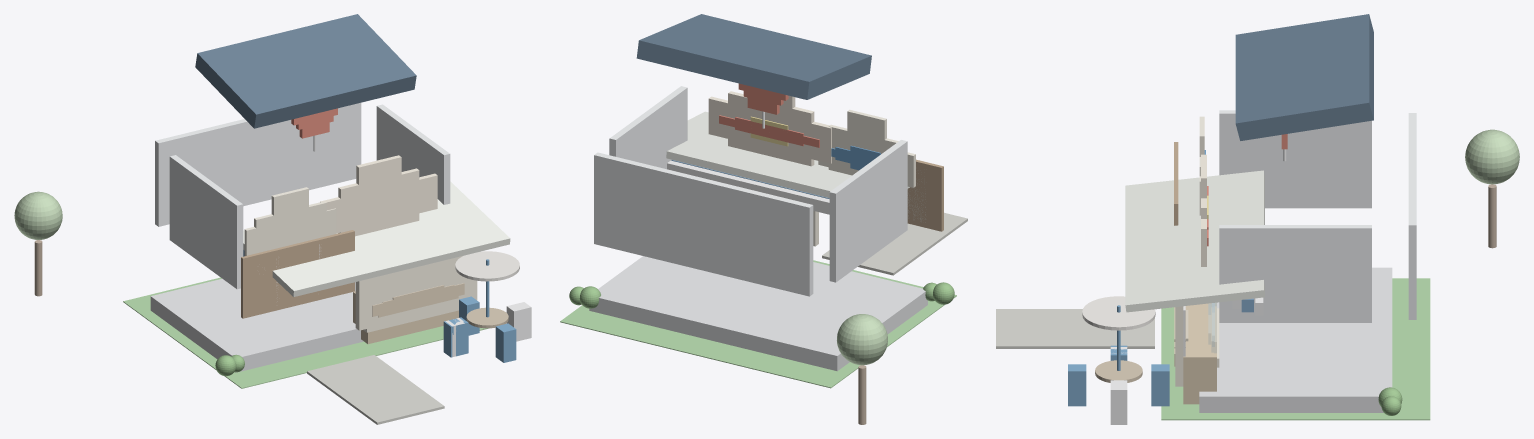
Rendered from BUILDING_BAKERY_SMALL_TOWN_001_LOD_GAMEPLAY.glb.
The picture shows the model from 3 angles, left to right: view 1: azimuth 30°, elevation 25°; view 2: azimuth 150°, elevation 25°; view 3: azimuth 270°, elevation 25°; orthographic projection. The views are drawn at different scales.
Parts seen in each view (by area): view 1: MOD_ROOF_GABLE_STANDARD_001.001, MOD_WALL_WEATHERBOARD_WHITE_001.005, MOD_FOUNDATION_STANDARD_RECT_001.001, MOD_WALL_WEATHERBOARD_WHITE_001.003, MOD_AWNING_COASTAL_CAFE_001_DEEP_SEATING_AWNING_GAMEPLAY_CAN, MOD_PATH_STANDARD_001_GAMEPLAY_SURFACE, MOD_GROUND_GRASS_STANDARD_001_GAMEPLAY_PATCH, MOD_WINDOW_RESIDENTIAL_LARGE_001_COASTAL_PANORAMIC_WINDOW_GA, MOD_AWNING_COASTAL_CAFE_001_CORNER_RETURN_AWNING_GAMEPLAY_CA, MOD_WALL_WEATHERBOARD_WHITE_001.004, MOD_BAKERY_DISPLAY_WINDOW_001_SINGLE_LARGE_DISPLAY_WINDOW_GA, MOD_AWNING_COASTAL_CAFE_001_SHALLOW_CAFE_AWNING_GAMEPLAY_CAN (+17 smaller); view 2: MOD_WALL_WEATHERBOARD_WHITE_001.005, MOD_FOUNDATION_STANDARD_RECT_001.001, MOD_ROOF_GABLE_STANDARD_001.001, MOD_WALL_WEATHERBOARD_WHITE_001.003, MOD_GROUND_GRASS_STANDARD_001_GAMEPLAY_PATCH, MOD_AWNING_COASTAL_CAFE_001_DEEP_SEATING_AWNING_GAMEPLAY_CAN, MOD_WALL_WEATHERBOARD_WHITE_001.004, MOD_BAKERY_SIGN_STANDARD_001_FASCIA_BAKERY_SIGN_GAMEPLAY_PAN, MOD_BAKERY_SIGN_STANDARD_001_COMPACT_CORNER_BAKERY_SIGN_GAME (×2), MOD_PATH_STANDARD_001_GAMEPLAY_SURFACE, MOD_WINDOW_RESIDENTIAL_LARGE_001_COASTAL_PANORAMIC_WINDOW_GA, MOD_TREE_EUCALYPTUS_STANDARD_001_GAMEPLAY_CANOPY (+13 smaller); view 3: MOD_FOUNDATION_STANDARD_RECT_001.001, MOD_ROOF_GABLE_STANDARD_001.001, MOD_WALL_WEATHERBOARD_WHITE_001.004, MOD_AWNING_COASTAL_CAFE_001_DEEP_SEATING_AWNING_GAMEPLAY_CAN, MOD_WALL_WEATHERBOARD_WHITE_001.003, MOD_GROUND_GRASS_STANDARD_001_GAMEPLAY_PATCH, MOD_PATH_STANDARD_001_GAMEPLAY_SURFACE, MOD_TREE_EUCALYPTUS_STANDARD_001_GAMEPLAY_CANOPY, MOD_WALL_WEATHERBOARD_WHITE_001.005, MOD_OUTDOOR_TABLE_SEATING_COASTAL_001_UMBRELLA_TABLE_VARIAN., MOD_BAKERY_COUNTER_FRONTAGE_001_GLASS_FRONT_PASTRY_COUNTER_G, MOD_AWNING_COASTAL_CAFE_001_CORNER_RETURN_AWNING_GAMEPLAY_CA (+6 smaller).
Part boxes in pixels (x1=…): MOD_ROOF_GABLE_STANDARD_001.001: x1=195, y1=14, x2=416, y2=128; MOD_WALL_WEATHERBOARD_WHITE_001.005: x1=155, y1=102, x2=361, y2=226; MOD_FOUNDATION_STANDARD_RECT_001.001: x1=150, y1=278, x2=363, y2=372; MOD_WALL_WEATHERBOARD_WHITE_001.003: x1=169, y1=155, x2=243, y2=289; MOD_AWNING_COASTAL_CAFE_001_DEEP_SEATING_AWNING_GAMEPLAY_CAN: x1=243, y1=181, x2=510, y2=296; MOD_PATH_STANDARD_001_GAMEPLAY_SURFACE: x1=307, y1=355, x2=444, y2=424; MOD_GROUND_GRASS_STANDARD_001_GAMEPLAY_PATCH: x1=123, y1=277, x2=488, y2=388; MOD_WINDOW_RESIDENTIAL_LARGE_001_COASTAL_PANORAMIC_WINDOW_GA: x1=241, y1=230, x2=354, y2=318; MOD_AWNING_COASTAL_CAFE_001_CORNER_RETURN_AWNING_GAMEPLAY_CA: x1=243, y1=190, x2=498, y2=285; MOD_WALL_WEATHERBOARD_WHITE_001.004: x1=376, y1=104, x2=450, y2=204; MOD_BAKERY_DISPLAY_WINDOW_001_SINGLE_LARGE_DISPLAY_WINDOW_GA: x1=372, y1=256, x2=463, y2=325; MOD_AWNING_COASTAL_CAFE_001_SHALLOW_CAFE_AWNING_GAMEPLAY_CAN: x1=359, y1=196, x2=486, y2=256; MOD_WALL_WEATHERBOARD_WHITE_001.005: x1=594, y1=152, x2=813, y2=296; MOD_FOUNDATION_STANDARD_RECT_001.001: x1=589, y1=256, x2=927, y2=371; MOD_ROOF_GABLE_STANDARD_001.001: x1=636, y1=14, x2=871, y2=99; MOD_WALL_WEATHERBOARD_WHITE_001.003: x1=829, y1=140, x2=907, y2=282; MOD_GROUND_GRASS_STANDARD_001_GAMEPLAY_PATCH: x1=560, y1=260, x2=956, y2=388; MOD_AWNING_COASTAL_CAFE_001_DEEP_SEATING_AWNING_GAMEPLAY_CAN: x1=666, y1=111, x2=909, y2=197; MOD_WALL_WEATHERBOARD_WHITE_001.004: x1=609, y1=86, x2=687, y2=169; MOD_BAKERY_SIGN_STANDARD_001_FASCIA_BAKERY_SIGN_GAMEPLAY_PAN: x1=708, y1=96, x2=831, y2=163; MOD_BAKERY_SIGN_STANDARD_001_COMPACT_CORNER_BAKERY_SIGN_GAME (×2): x1=728, y1=91, x2=814, y2=166; MOD_PATH_STANDARD_001_GAMEPLAY_SURFACE: x1=822, y1=212, x2=967, y2=275; MOD_WINDOW_RESIDENTIAL_LARGE_001_COASTAL_PANORAMIC_WINDOW_GA: x1=907, y1=159, x2=943, y2=231; MOD_TREE_EUCALYPTUS_STANDARD_001_GAMEPLAY_CANOPY: x1=837, y1=314, x2=887, y2=365; MOD_FOUNDATION_STANDARD_RECT_001.001: x1=1199, y1=267, x2=1392, y2=412; MOD_ROOF_GABLE_STANDARD_001.001: x1=1235, y1=14, x2=1373, y2=140; MOD_WALL_WEATHERBOARD_WHITE_001.004: x1=1219, y1=225, x2=1371, y2=322; MOD_AWNING_COASTAL_CAFE_001_DEEP_SEATING_AWNING_GAMEPLAY_CAN: x1=1125, y1=170, x2=1264, y2=312; MOD_WALL_WEATHERBOARD_WHITE_001.003: x1=1219, y1=110, x2=1371, y2=208; MOD_GROUND_GRASS_STANDARD_001_GAMEPLAY_PATCH: x1=1161, y1=278, x2=1430, y2=420; MOD_PATH_STANDARD_001_GAMEPLAY_SURFACE: x1=996, y1=309, x2=1154, y2=348; MOD_TREE_EUCALYPTUS_STANDARD_001_GAMEPLAY_CANOPY: x1=1465, y1=129, x2=1519, y2=184; MOD_WALL_WEATHERBOARD_WHITE_001.005: x1=1408, y1=113, x2=1416, y2=319; MOD_OUTDOOR_TABLE_SEATING_COASTAL_001_UMBRELLA_TABLE_VARIAN.: x1=1082, y1=296, x2=1155, y2=330; MOD_BAKERY_COUNTER_FRONTAGE_001_GLASS_FRONT_PASTRY_COUNTER_G: x1=1183, y1=303, x2=1216, y2=404; MOD_AWNING_COASTAL_CAFE_001_CORNER_RETURN_AWNING_GAMEPLAY_CA: x1=1186, y1=175, x2=1253, y2=292.
Bounding box in the file's own units: 9.08 × 6.46 × 10.52.
